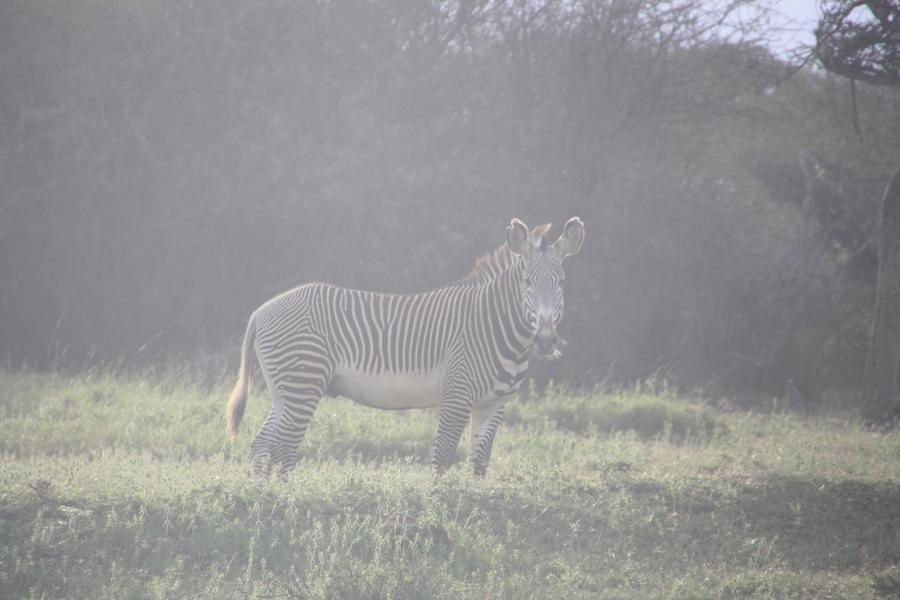zebra_grevys: (239, 269, 490, 400)
